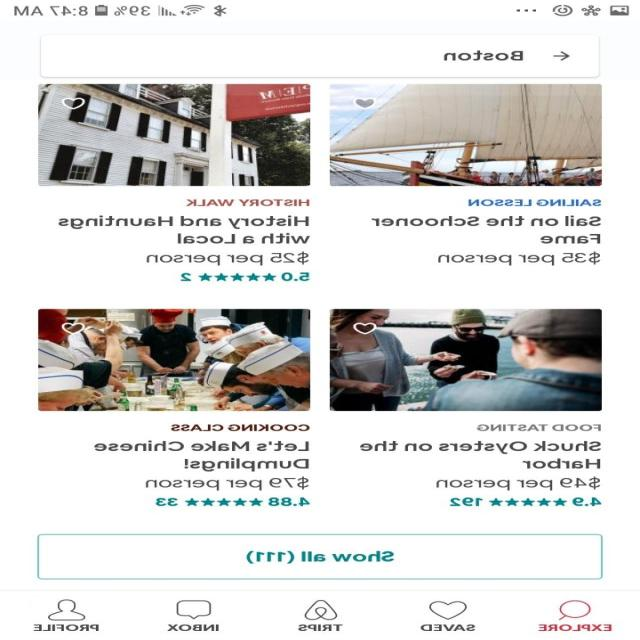Icon: (48, 599, 86, 620), (430, 600, 468, 620), (198, 272, 278, 281), (185, 497, 264, 506), (489, 497, 568, 506), (558, 599, 591, 620), (177, 600, 212, 619), (62, 97, 86, 110), (353, 322, 378, 334), (62, 322, 86, 334), (354, 97, 377, 109), (553, 51, 571, 61)
Image: (39, 308, 311, 411), (330, 308, 602, 411), (330, 83, 602, 186), (39, 83, 311, 186), (305, 599, 338, 620)
Text: (58, 215, 312, 243), (94, 441, 310, 472), (360, 441, 602, 468), (372, 215, 602, 243), (439, 250, 602, 266), (436, 476, 602, 491), (146, 476, 310, 491), (146, 251, 310, 265), (468, 197, 602, 206), (170, 423, 310, 431), (476, 423, 602, 431), (186, 198, 310, 206), (444, 50, 524, 60), (538, 624, 612, 632), (34, 624, 100, 631), (268, 497, 312, 506), (421, 624, 476, 631), (167, 624, 220, 631), (298, 624, 344, 631), (449, 497, 484, 506), (282, 271, 312, 281), (572, 497, 602, 506), (156, 497, 178, 506), (180, 272, 192, 281)
TextButton: (38, 534, 604, 580)
